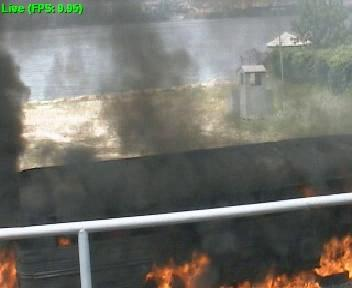fire: (151, 255, 348, 288)
smoke: (108, 27, 192, 147)
